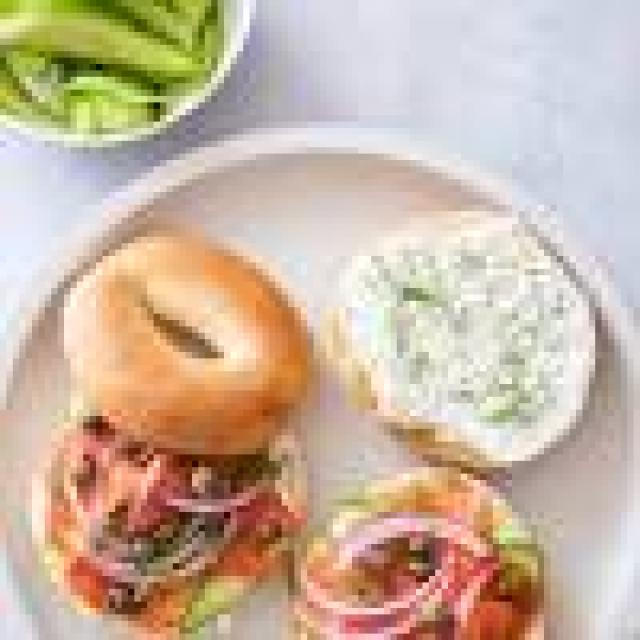Bagel: (64, 230, 309, 454)
